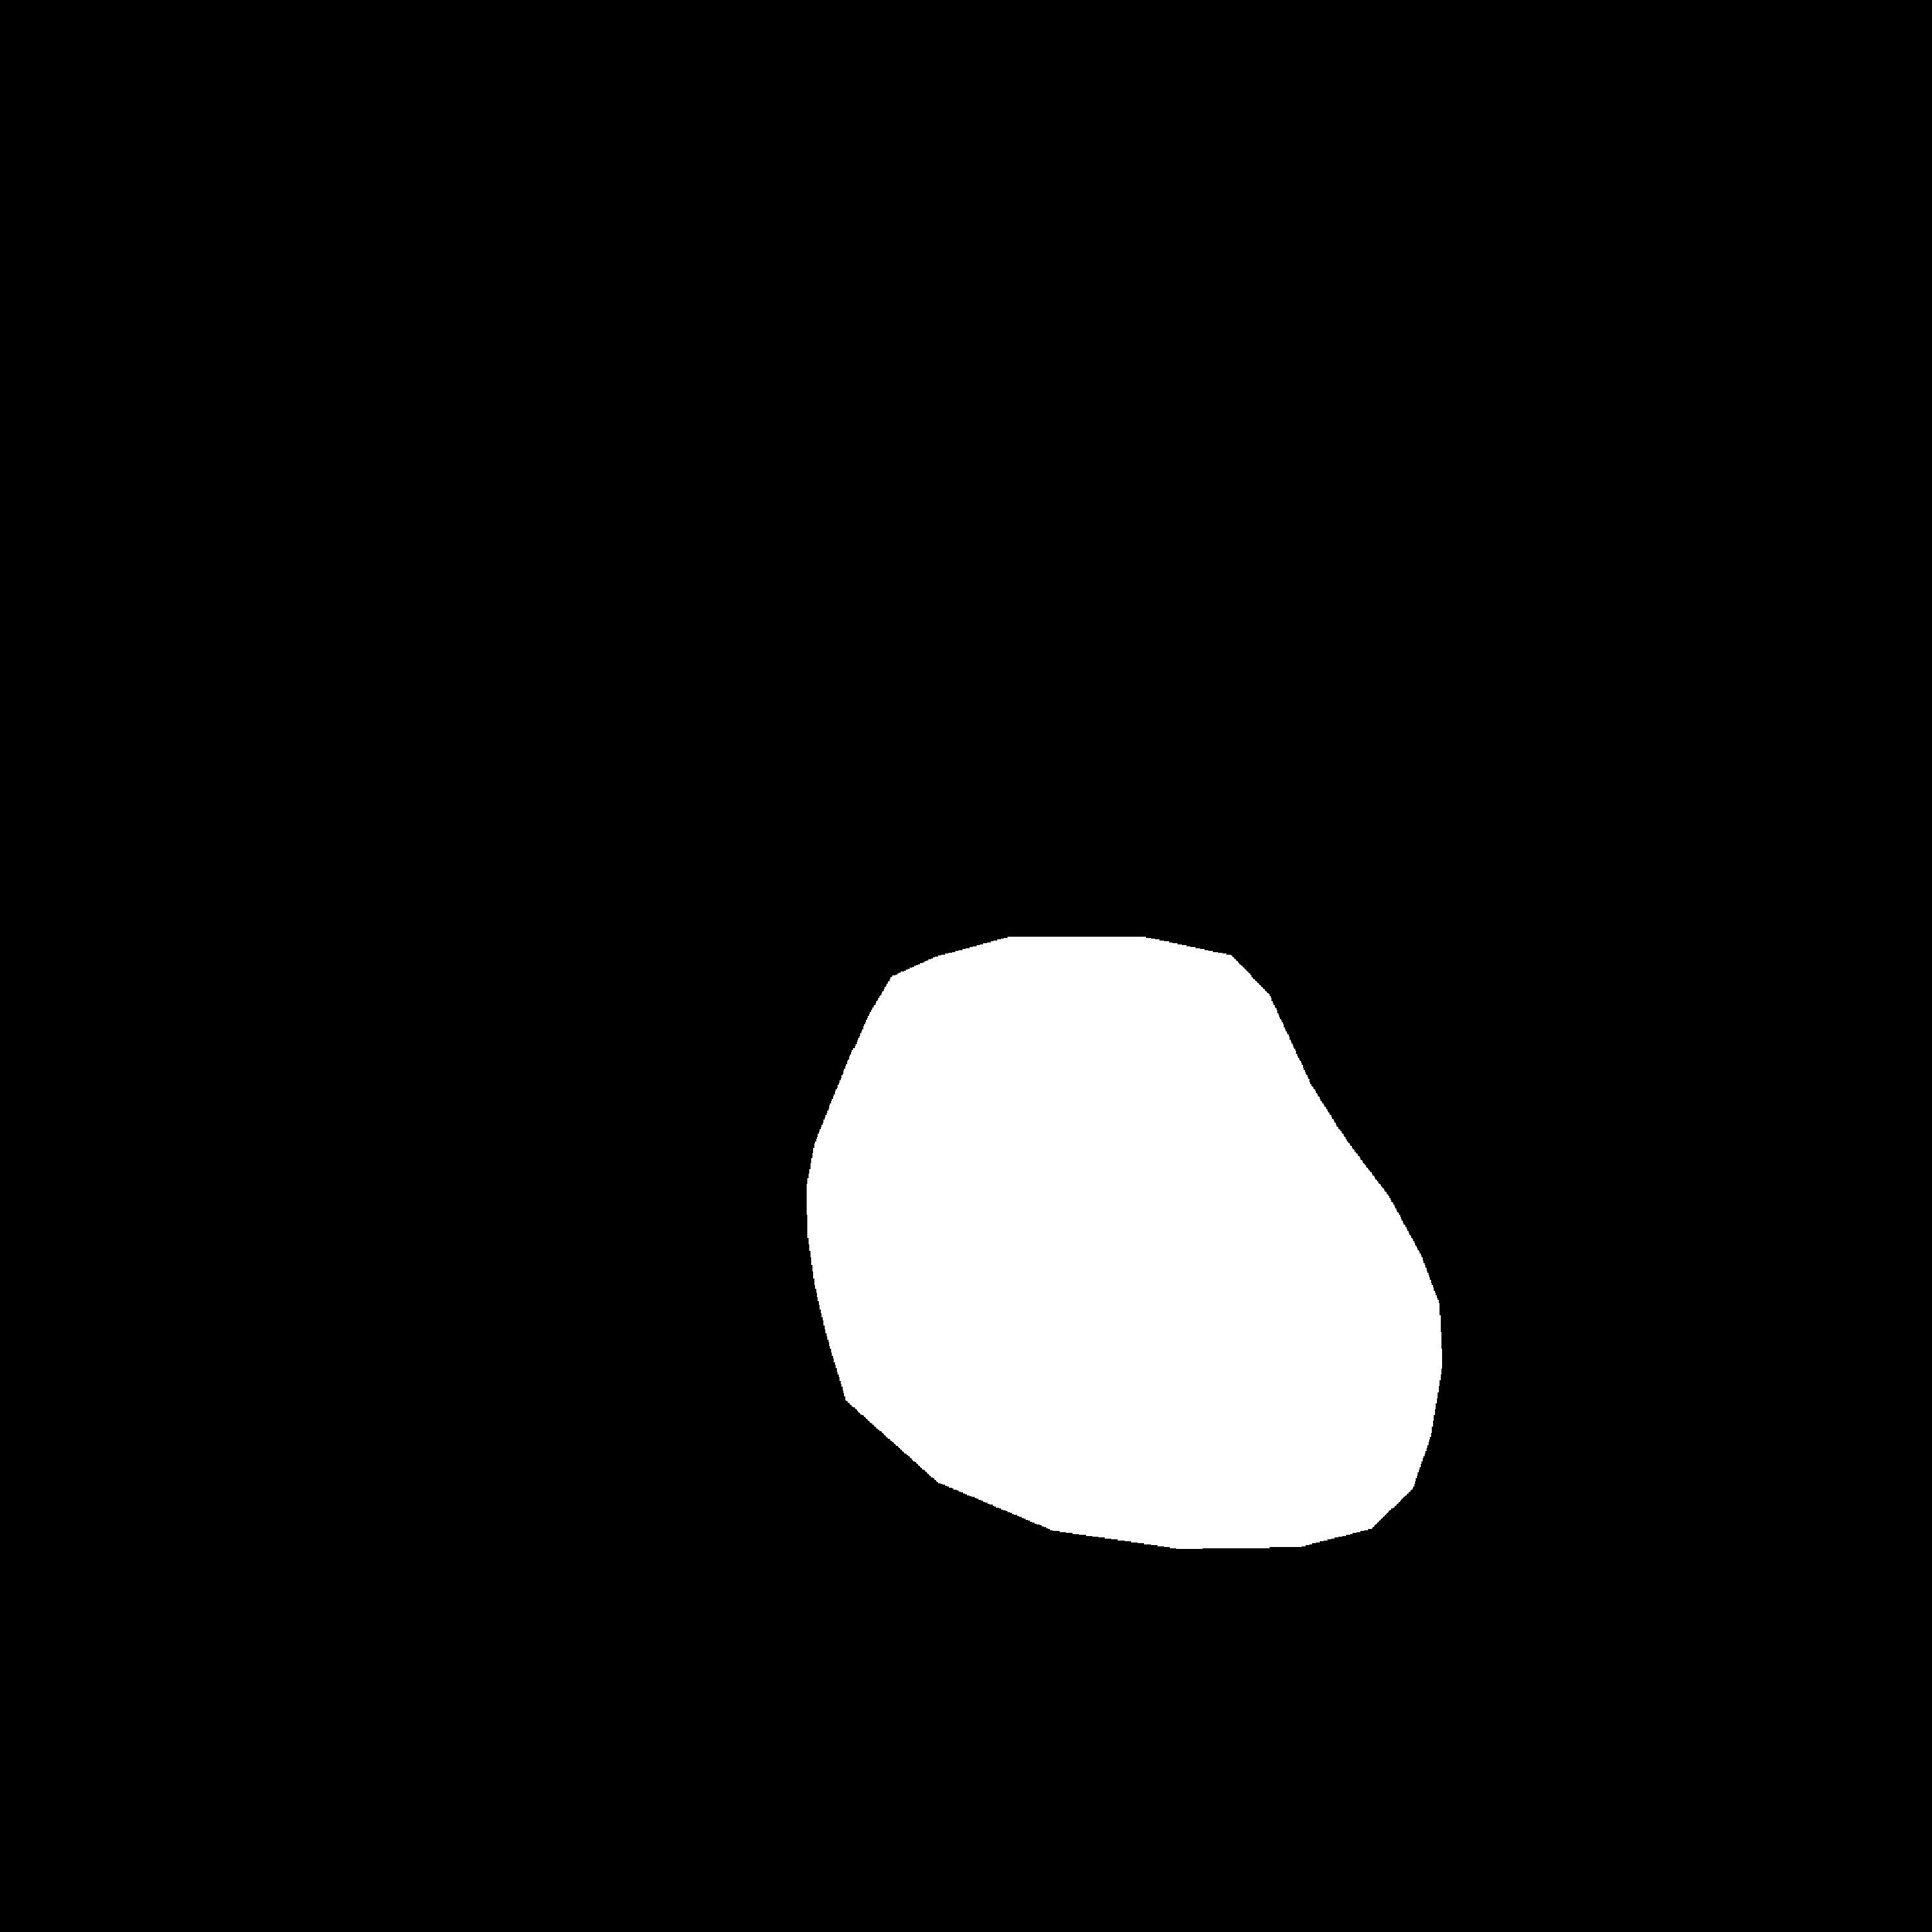heart: (807, 1074, 1445, 1529)
left_lung: (299, 384, 938, 1652)
right_lung: (1100, 354, 1702, 1585)
